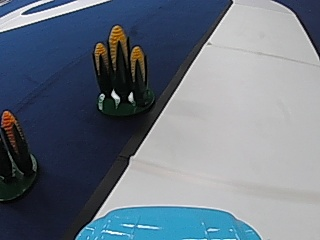corn: (90, 21, 155, 117), (1, 107, 38, 200)
